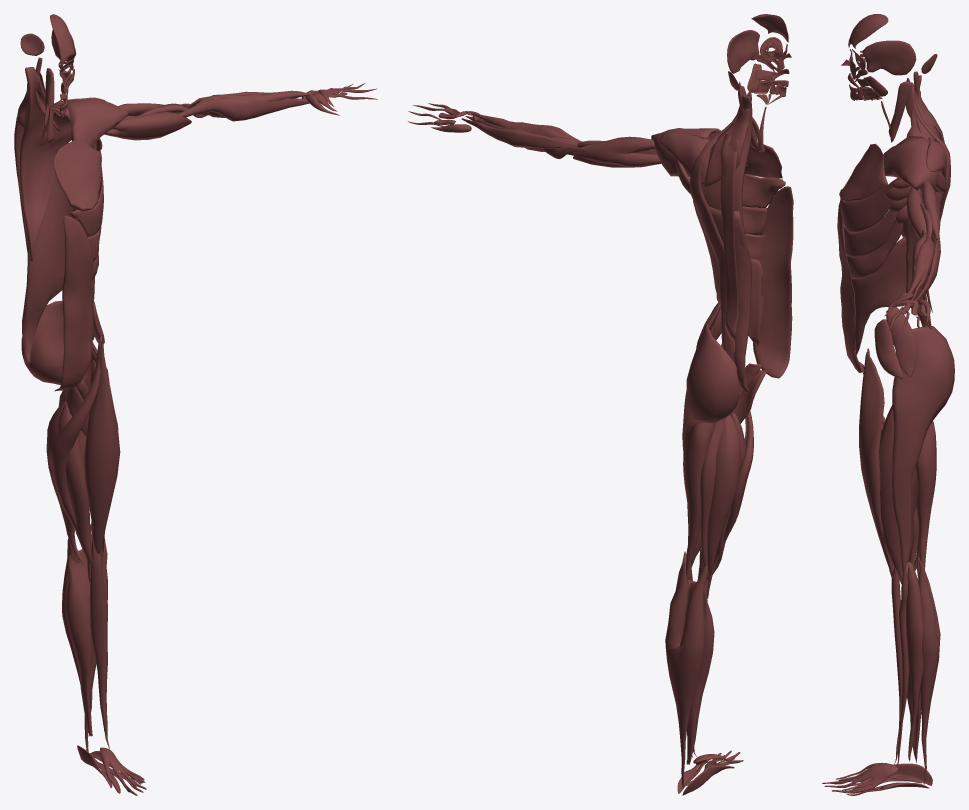
The model's file is HalfMuscle.fbx.
3 views of the same model, side by side, from view 1: azimuth 30°, elevation 25°; view 2: azimuth 150°, elevation 25°; view 3: azimuth 270°, elevation 25° (orthographic). The views are drawn at different scales.
Parts seen in each view (by area): view 1: FemaleHalfTorsoMusclesRectusAbdominisMuscle, FemaleHalfTorsoMusclesTrapeziusMuscle, FemaleHalfTorsoMusclesLatissimMuscle, FemaleHalfLegMusclesRectusFemorisMuscle, FemaleHalfLegMusclesSoleusMuscle, FemaleHalfTorsoMusclesPectoralMuscle, FemaleHalfLegMusclesTensorFasciaeLataeMuscle, FemaleHalfLegMusclesSartoriusMuscle, FemaleHalfLegMusclesTibialisAnteriorMuscle, FemaleHalfLegMusclesVstusMedialisMuscle, FemaleHalfArmMusclesDeltoideusMuscle, ArmMusclesBrachioradialisMuscle (+8 smaller); view 2: FemaleHalfTorsoMusclesRectusAbdominisMuscle, FemaleHalfLegMusclesGastrocnemiusMuscle, FemaleHalfLegMusclesTensorFasciaeLataeMuscle, FemaleHalfLegMusclesVastusIntermediusMuscle, FemaleHalfTorsoMusclesLatissimMuscle, FemaleHalfTorsoMusclesSpinalisMuscle, FemaleHalfTorsoMusclesLongissimusMuscle, FemaleHalfLegMusclesBicepFemorisMuscle, ArmMusclesTricepMucsle, FemaleHalfLegMusclesSoleusMuscle, FemaleHalfTorsoMusclesTrapeziusMuscle, FemaleHalfLegMusclesBicepFemorisMuscle01 (+10 smaller); view 3: FemaleHalfLegMusclesTensorFasciaeLataeMuscle, FemaleHalfLegMusclesRectusFemorisMuscle, FemaleHalfTorsoMusclesOblique, FemaleHalfLegMusclesVastusLateralisMuscle, FemaleHalfLegMusclesGastrocnemiusMuscle, FemaleHalfLegMusclesPeroneuslongusMuscle, FemaleHalfArmMusclesDeltoideusMuscle, FemaleHalfLegMusclesBicepFemorisMuscle, FemaleHalfTorsoMusclesRectusAbdominisMuscle, FemaleHalfTorsoMusclesPectoralMuscle, FemaleHalfTorsoMusclesOblique03, FemaleHalfHeadMusclesTemporalMuscle (+26 smaller).
Boxes of the visible parts, bbox=[...] form: FemaleHalfTorsoMusclesRectusAbdominisMuscle: bbox=[55, 215, 93, 391]; FemaleHalfTorsoMusclesTrapeziusMuscle: bbox=[19, 67, 71, 260]; FemaleHalfTorsoMusclesLatissimMuscle: bbox=[18, 142, 96, 363]; FemaleHalfLegMusclesRectusFemorisMuscle: bbox=[84, 340, 120, 553]; FemaleHalfLegMusclesSoleusMuscle: bbox=[66, 549, 96, 736]; FemaleHalfTorsoMusclesPectoralMuscle: bbox=[53, 139, 101, 211]; FemaleHalfLegMusclesTensorFasciaeLataeMuscle: bbox=[21, 300, 109, 389]; FemaleHalfLegMusclesSartoriusMuscle: bbox=[49, 336, 101, 583]; FemaleHalfLegMusclesTibialisAnteriorMuscle: bbox=[89, 539, 109, 749]; FemaleHalfLegMusclesVstusMedialisMuscle: bbox=[58, 403, 92, 566]; FemaleHalfArmMusclesDeltoideusMuscle: bbox=[59, 98, 129, 147]; ArmMusclesBrachioradialisMuscle: bbox=[178, 97, 309, 121]; FemaleHalfTorsoMusclesRectusAbdominisMuscle: bbox=[753, 186, 793, 378]; FemaleHalfLegMusclesGastrocnemiusMuscle: bbox=[665, 551, 707, 789]; FemaleHalfLegMusclesTensorFasciaeLataeMuscle: bbox=[682, 322, 739, 543]; FemaleHalfLegMusclesVastusIntermediusMuscle: bbox=[706, 414, 740, 582]; FemaleHalfTorsoMusclesLatissimMuscle: bbox=[693, 200, 751, 393]; FemaleHalfTorsoMusclesSpinalisMuscle: bbox=[720, 134, 738, 340]; FemaleHalfTorsoMusclesLongissimusMuscle: bbox=[689, 104, 740, 370]; FemaleHalfLegMusclesBicepFemorisMuscle: bbox=[683, 422, 715, 581]; ArmMusclesTricepMucsle: bbox=[567, 136, 661, 167]; FemaleHalfLegMusclesSoleusMuscle: bbox=[686, 580, 714, 764]; FemaleHalfTorsoMusclesTrapeziusMuscle: bbox=[701, 94, 752, 284]; FemaleHalfLegMusclesBicepFemorisMuscle01: bbox=[700, 417, 726, 580]; FemaleHalfLegMusclesTensorFasciaeLataeMuscle: bbox=[891, 326, 954, 572]; FemaleHalfLegMusclesRectusFemorisMuscle: bbox=[859, 352, 892, 574]; FemaleHalfTorsoMusclesOblique: bbox=[851, 237, 906, 355]; FemaleHalfLegMusclesVastusLateralisMuscle: bbox=[879, 405, 918, 583]; FemaleHalfLegMusclesGastrocnemiusMuscle: bbox=[917, 557, 940, 784]; FemaleHalfLegMusclesPeroneuslongusMuscle: bbox=[906, 562, 923, 761]; FemaleHalfArmMusclesDeltoideusMuscle: bbox=[883, 136, 939, 191]; FemaleHalfLegMusclesBicepFemorisMuscle: bbox=[916, 421, 936, 568]; FemaleHalfTorsoMusclesRectusAbdominisMuscle: bbox=[837, 200, 864, 372]; FemaleHalfTorsoMusclesPectoralMuscle: bbox=[839, 143, 887, 201]; FemaleHalfTorsoMusclesOblique03: bbox=[840, 177, 899, 232]; FemaleHalfHeadMusclesTemporalMuscle: bbox=[862, 40, 916, 75].
Bounding box in the file's own units: 68.88 × 147 × 23.71.
